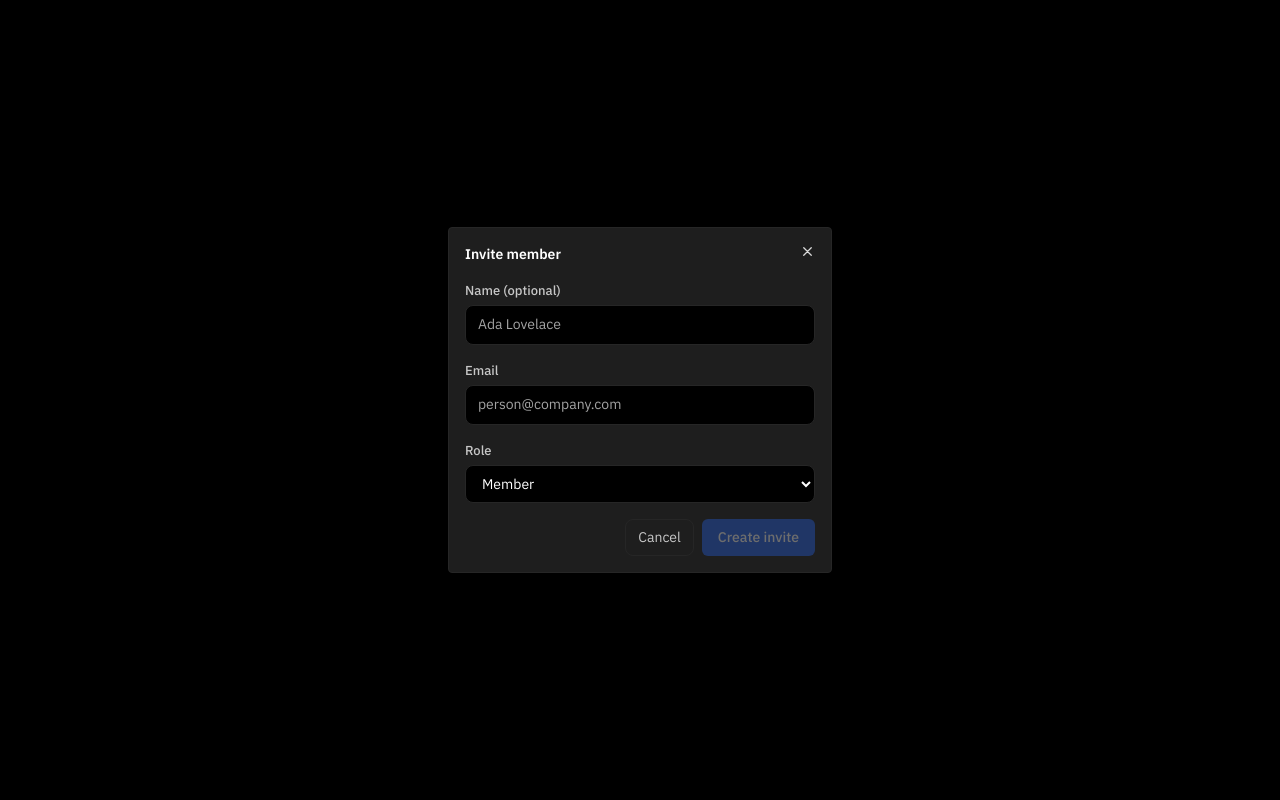
the invite dialog › surfaces a 409 (already a member) inline
In the field labelled "Email": (640, 405) [465,385,815,425], type "grace@corp.com"
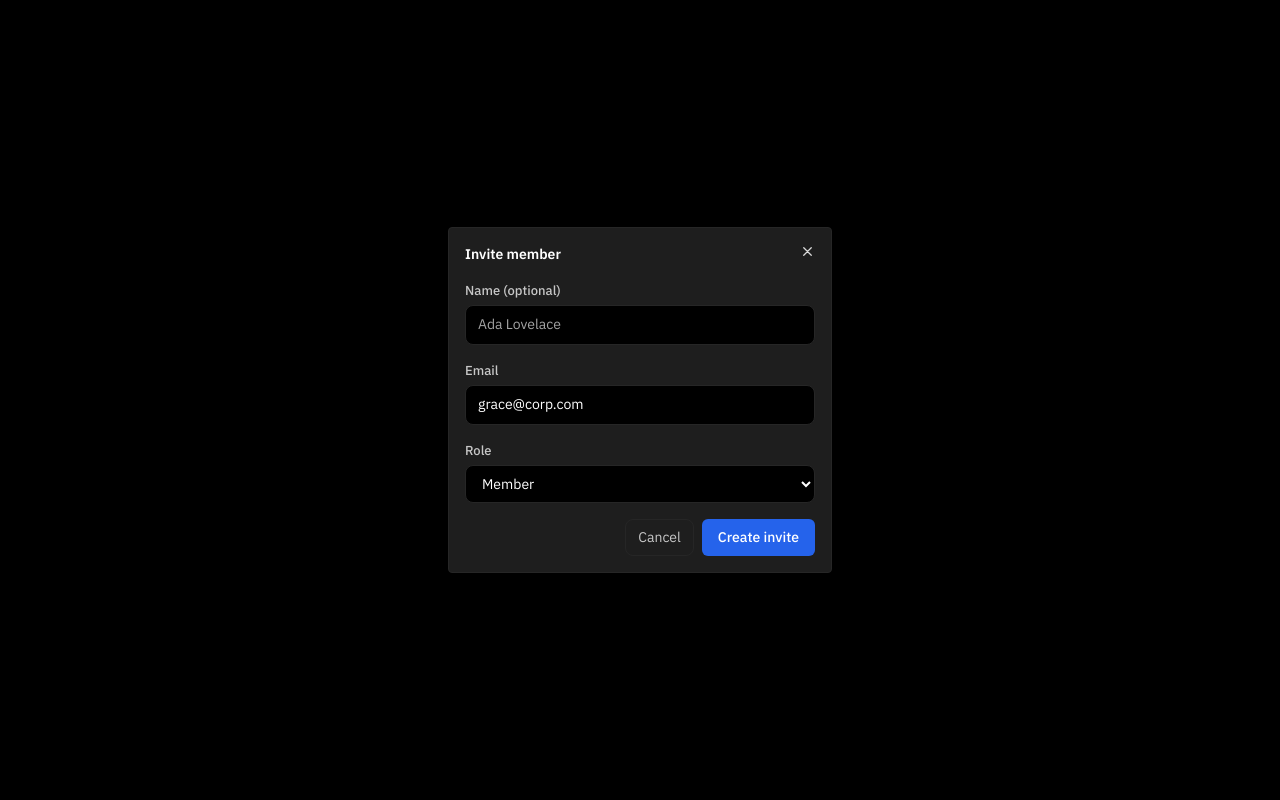
Click the button "Create invite": (758, 538) [702,519,815,556]
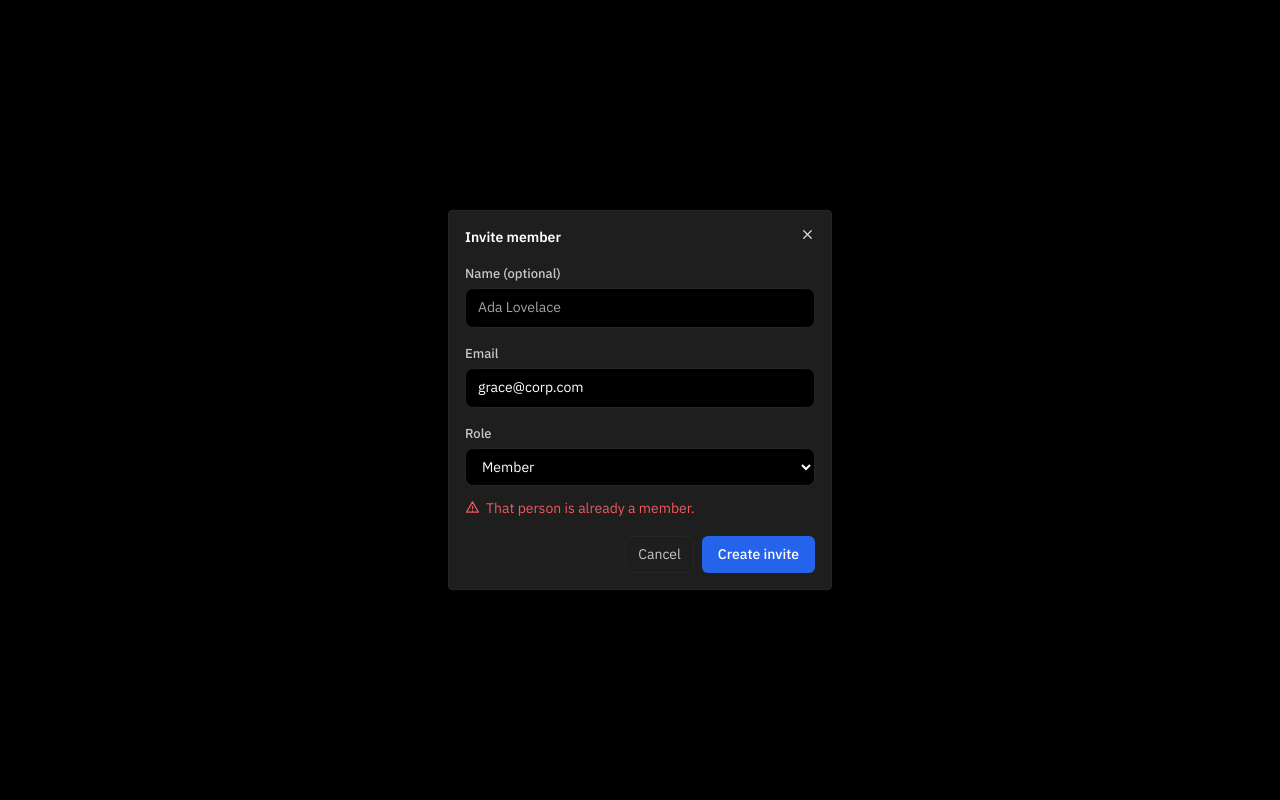
Expected: the button "Create invite" is shown, [702,536,815,573]
Result: the text "That person is already a member." is shown at [465,499,695,517]
